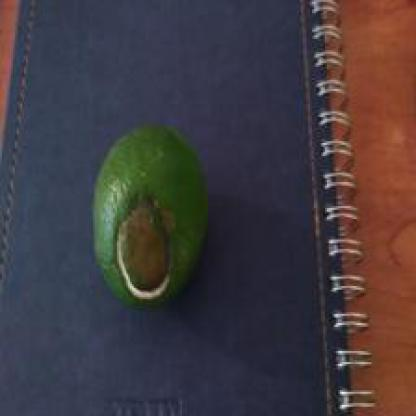orange_rotten: (65, 108, 262, 328)
